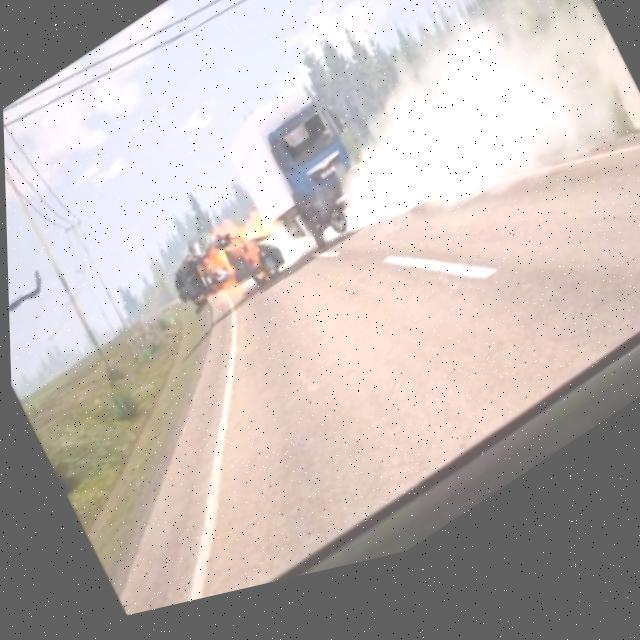Car Accident Detector - v4 Generation1 Exported: (130, 75, 397, 358)
